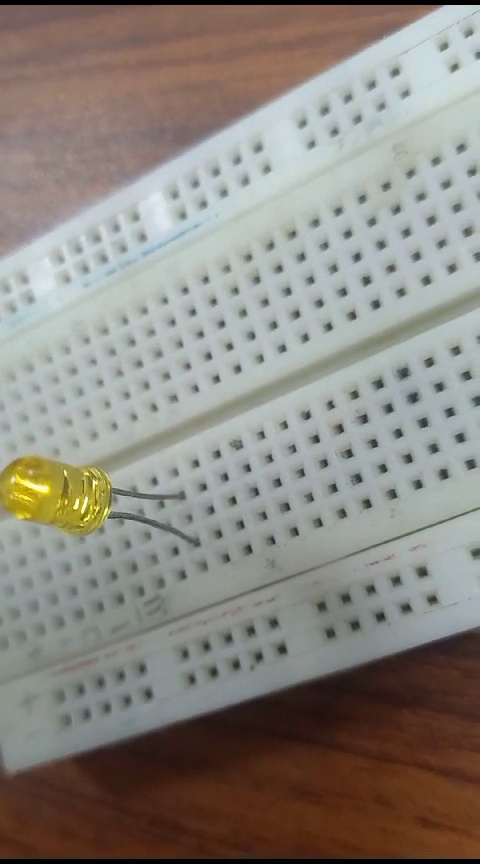LED: (1, 447, 216, 559)
